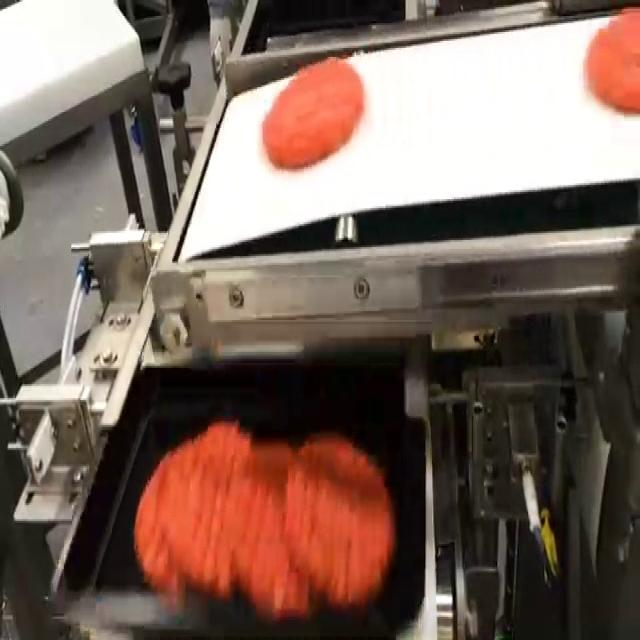4-hamburguer: (135, 421, 394, 617)
